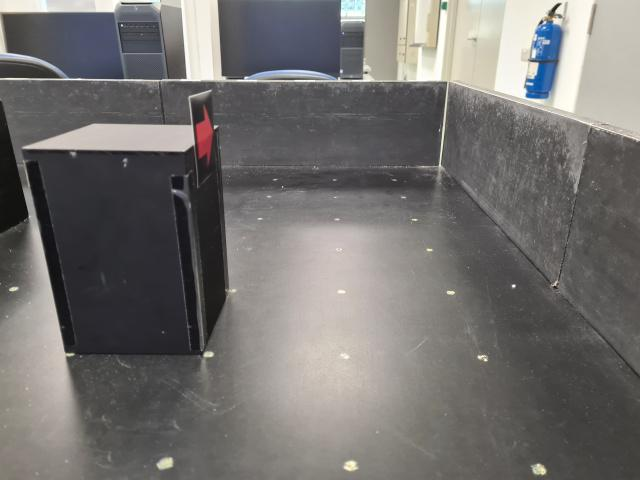left: (187, 89, 217, 189)
